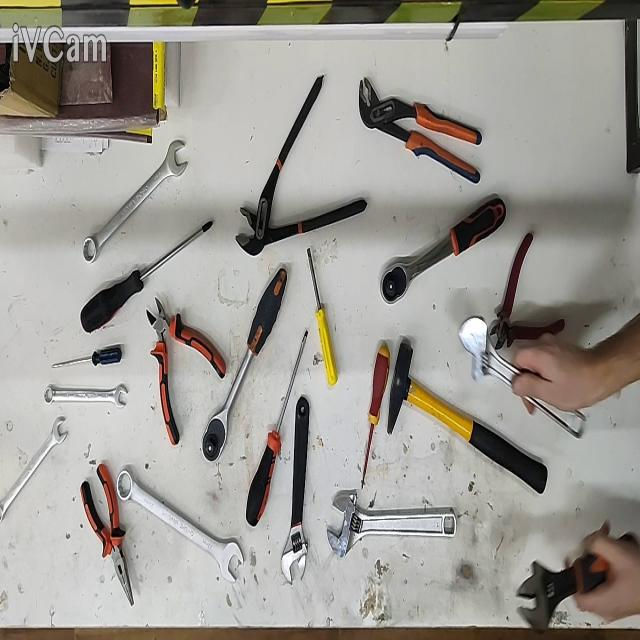Screwdriver: (80, 221, 212, 334), (245, 329, 309, 526), (361, 342, 390, 493), (307, 247, 338, 387), (52, 348, 121, 369)
